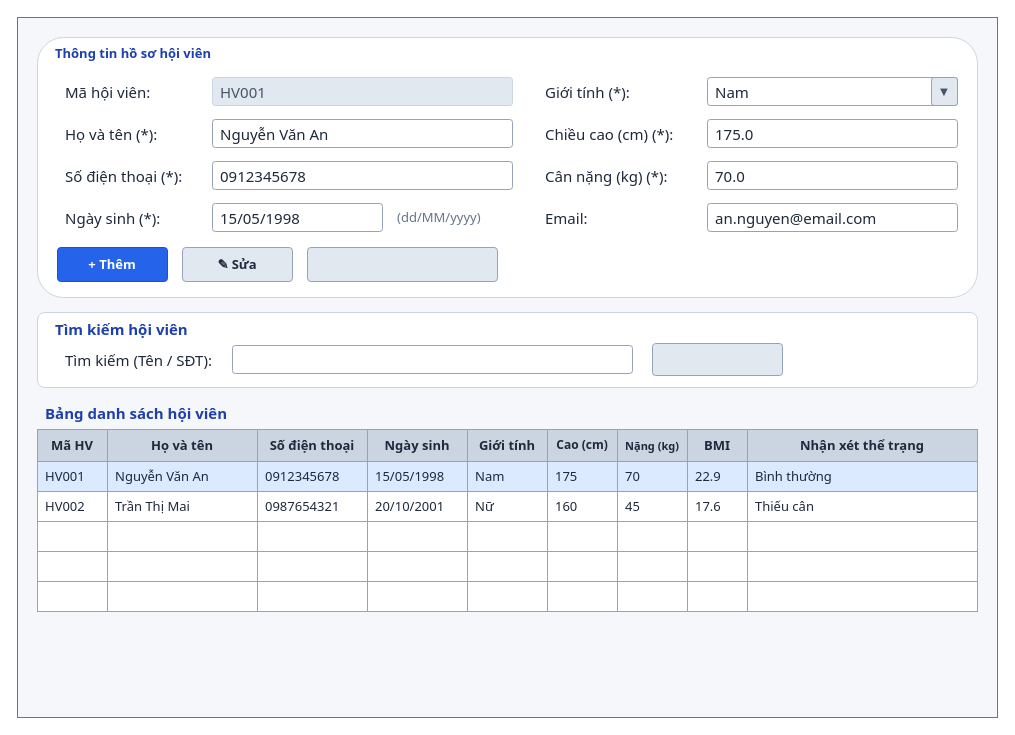
This 1015x735 diagram has some shape labels left out. The centre of each missing label's shape, as x and y in pixels:
"Nhập tên hoặc số điện thoại..." belongs at pixel 432 359.
"Tìm kiếm" belongs at pixel 717 359.
"🗑 Xóa" belongs at pixel 402 264.
